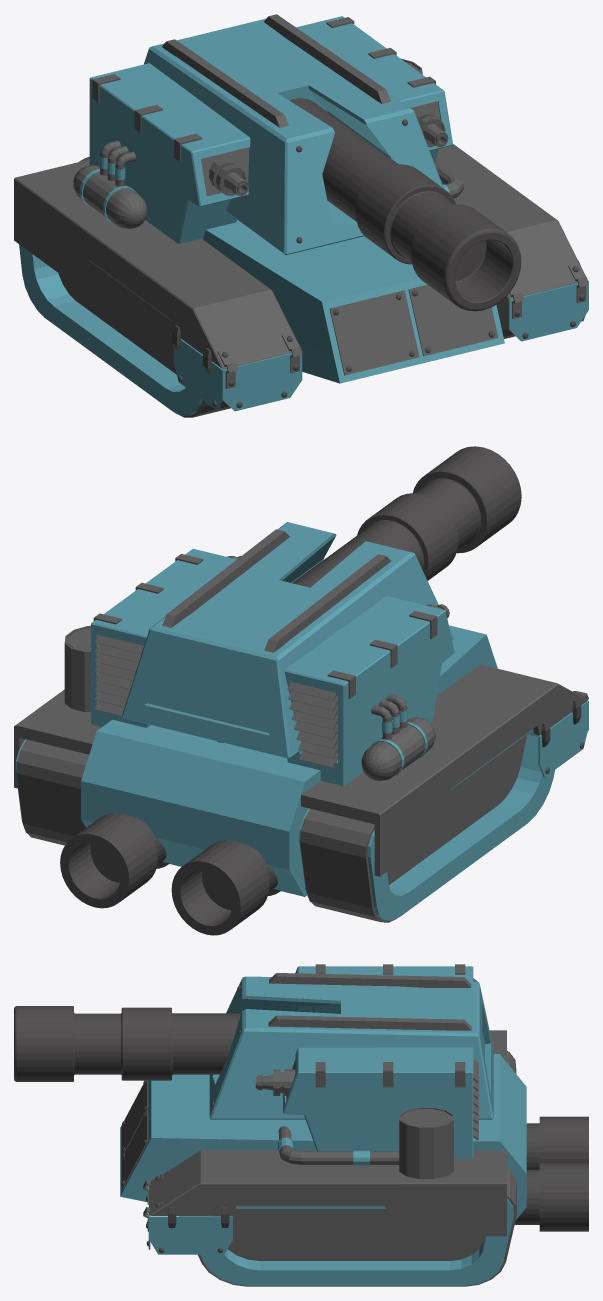
File: BigTankAnimation.fbx
3 renders of one model, top to bottom at view 1: azimuth 30°, elevation 25°; view 2: azimuth 150°, elevation 25°; view 3: azimuth 270°, elevation 25°, orthographic. The views are drawn at different scales.
Parts seen in each view (by area): view 1: Abigtank, Abigtank.002, Abigtank.001; view 2: Abigtank, Abigtank.002, Abigtank.001; view 3: Abigtank, Abigtank.002, Abigtank.001.
Part boxes in pixels (x1,y1,x2,y2): Abigtank: (14, 16, 588, 417); Abigtank.002: (144, 14, 443, 254); Abigtank.001: (289, 98, 521, 311); Abigtank: (14, 548, 588, 935); Abigtank.002: (122, 522, 453, 758); Abigtank.001: (292, 446, 521, 587); Abigtank: (120, 964, 588, 1286); Abigtank.002: (209, 973, 493, 1119); Abigtank.001: (14, 1006, 340, 1081).
Size of the model in its own units: 462 by 300 by 719.
